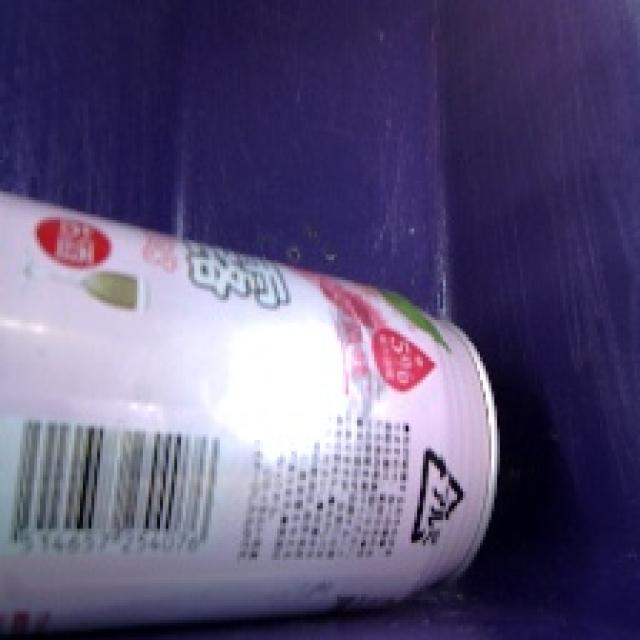metal: (0, 167, 520, 640)
